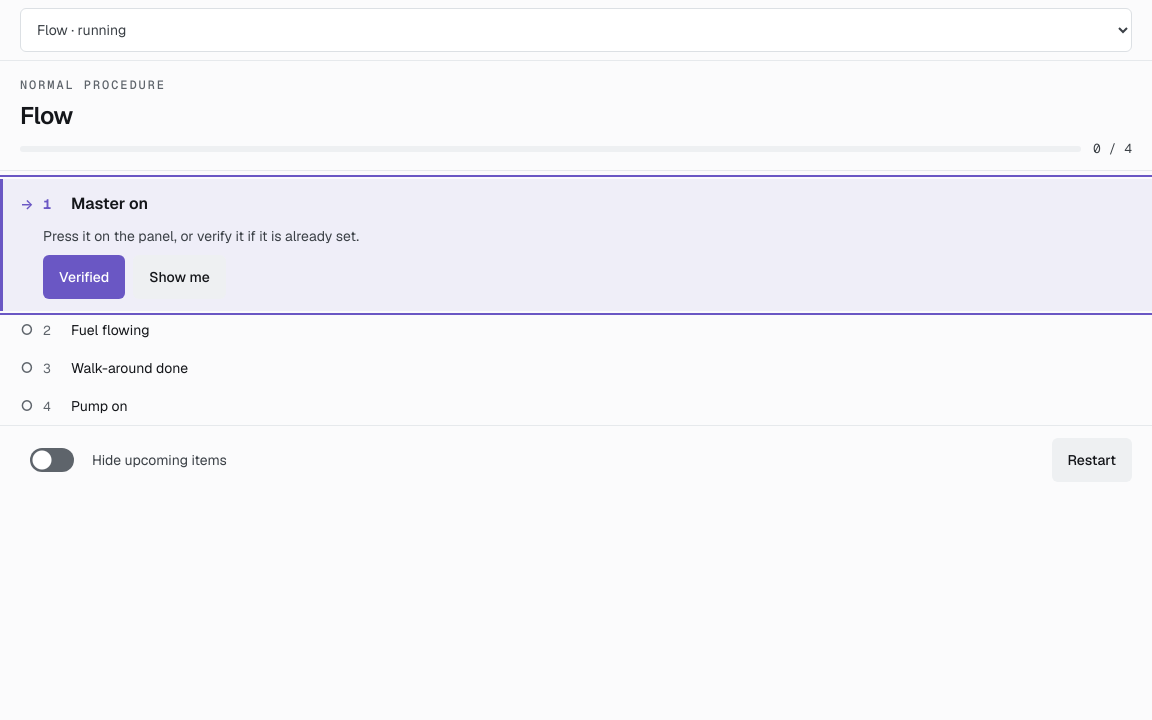
Test: Practice recall › adds each Show me to the debrief count and lists it
Click the checkbox labelled "Hide upcoming items" at (52, 460), box x1=20 y1=438 x2=84 y2=482
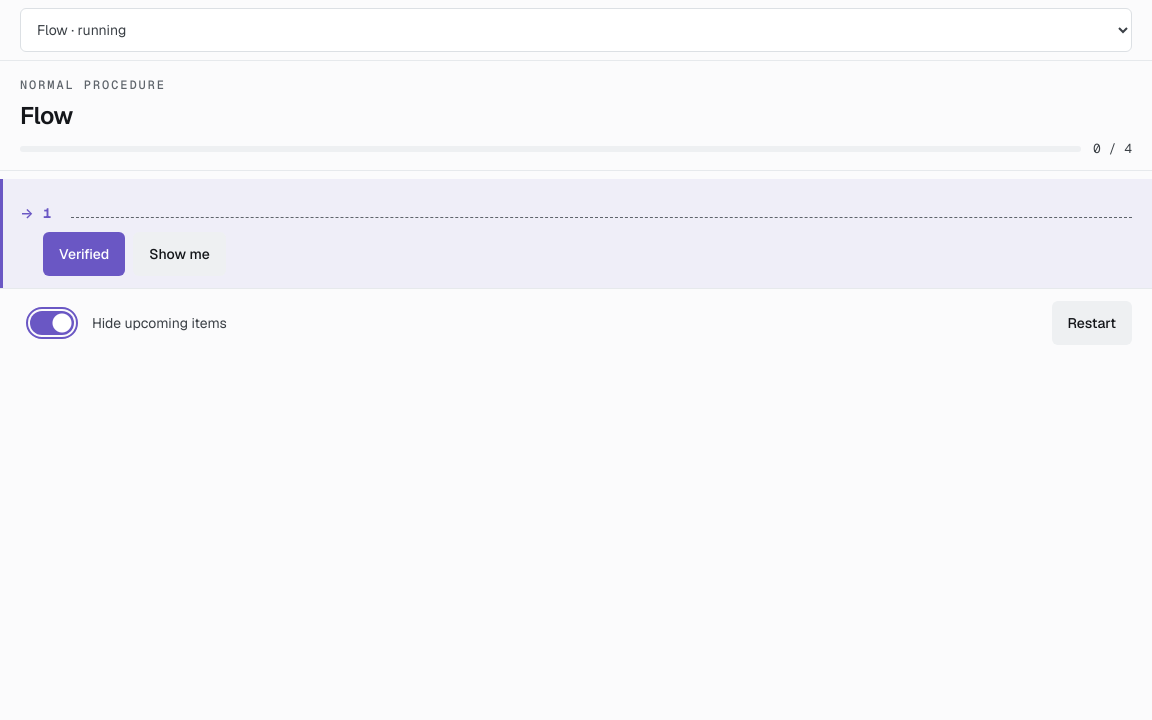
Click the button "Show me" at (180, 254), box x1=133 y1=232 x2=226 y2=276
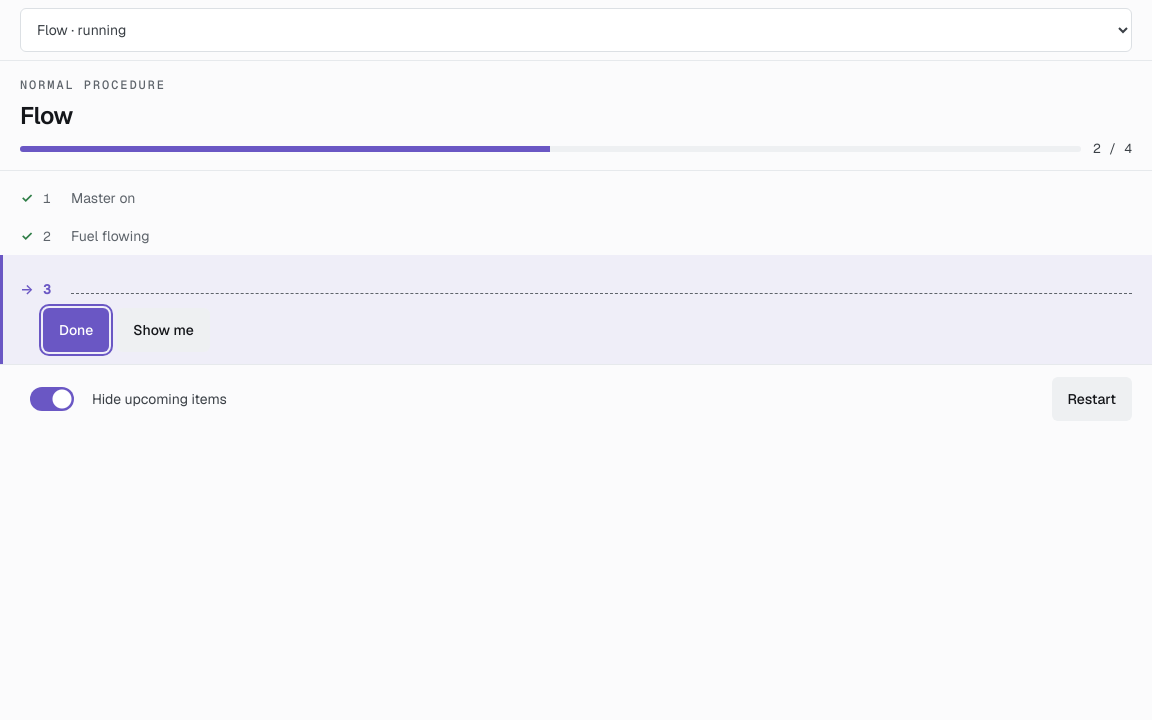
Click the button "Show me" at (164, 330), box x1=117 y1=308 x2=210 y2=352
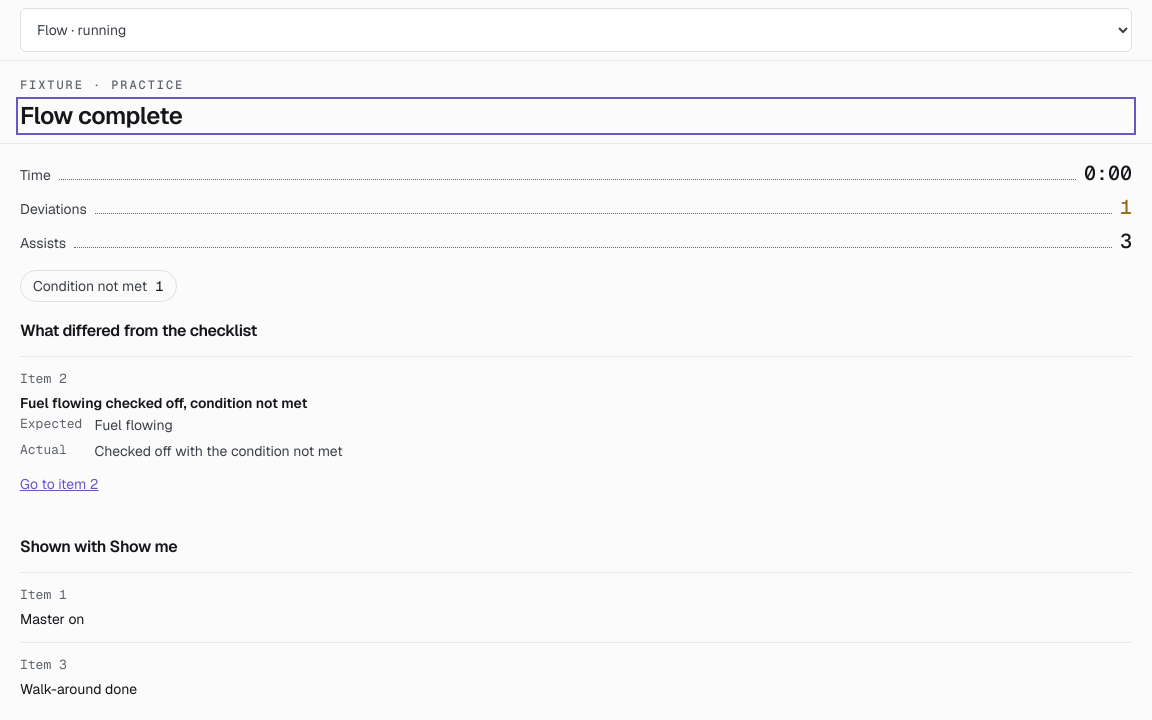
Now the text "3" is shown, box x1=1120 y1=228 x2=1132 y2=254
Now the list items read "Item 1Master on", "Item 3Walk-around done", in this order, box x1=20 y1=586 x2=84 y2=628; x1=20 y1=642 x2=1132 y2=712
